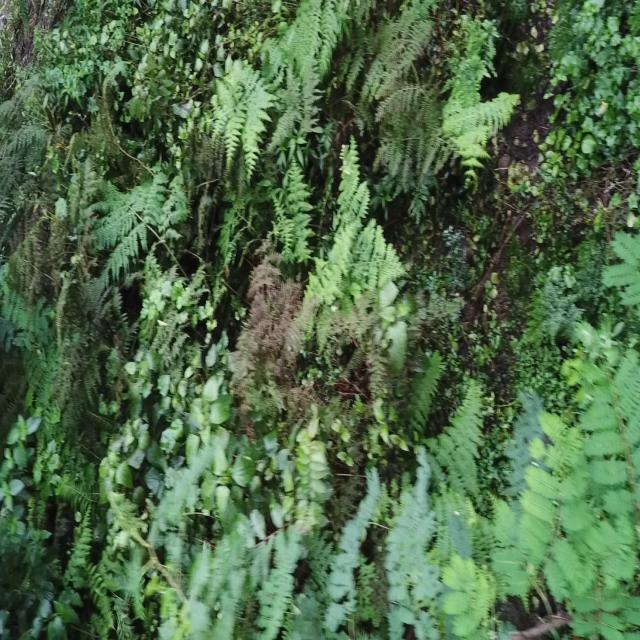Mysore-Thorn-Weed: (122, 440, 640, 640), (607, 219, 640, 321)
